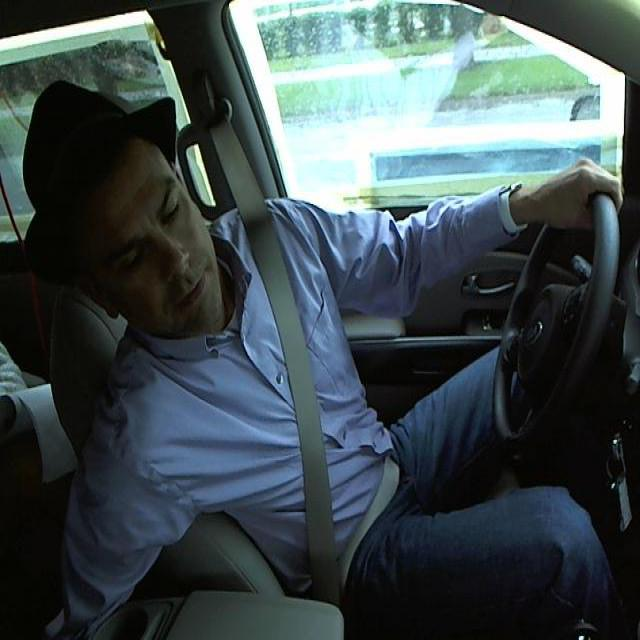seatbelt: (250, 229, 385, 572)
